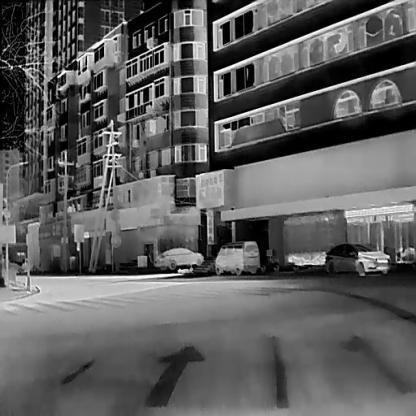car: (323, 243, 392, 276), (214, 240, 260, 275), (153, 246, 203, 269)
